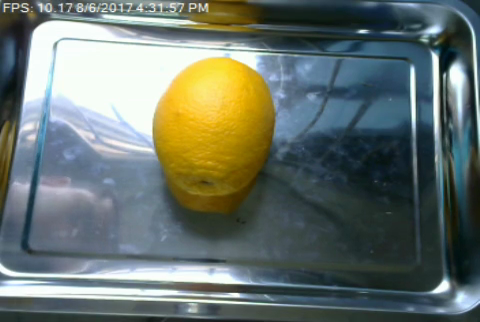Orange: (154, 56, 276, 195)
